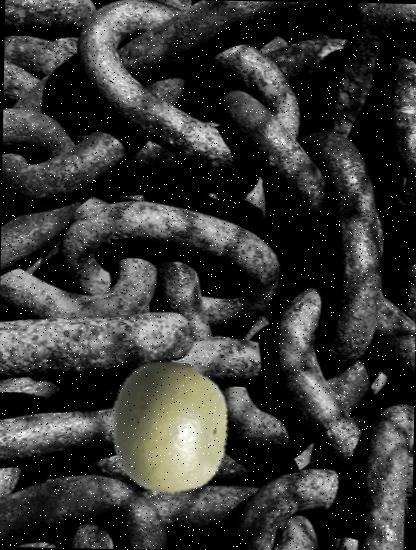Pomelo: (100, 359, 238, 498)
